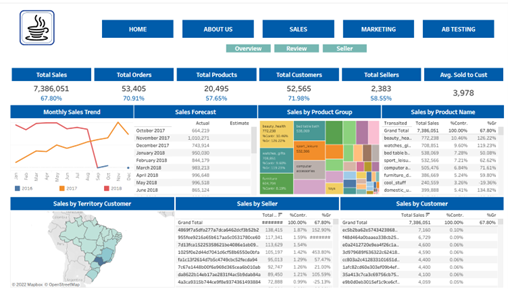

What the dashboard file says about the page in this screenshot:
{"tool":"tableau","page":{"name":"SALES overview","canvas":[1366,768],"ordinal":6},"visuals":[{"type":"image","param":"C:/Users/artanggoro/Downloads/PACMANN PLBI 2 - JAVA TEAM ECOMMERCE.twb Files/Ima","box":[0,0,1366,768]},{"type":"dashboard-object","box":[250,33,216,72]},{"type":"dashboard-object","box":[466,33,216,72]},{"type":"dashboard-object","box":[682,33,216,72]},{"type":"dashboard-object","box":[898,33,215,72]},{"type":"dashboard-object","box":[1113,33,215,72]},{"type":"dashboard-object","box":[590,105,130,32]},{"type":"dashboard-object","box":[720,105,130,32]},{"type":"dashboard-object","box":[850,105,129,32]},{"type":"worksheet","title":"S0 - M1 Sales","mark":"Automatic","box":[15,170,222,104]},{"type":"worksheet","title":"SO - M2 Total Orders","mark":"Automatic","box":[237,170,222,104]},{"type":"worksheet","title":"SO - M3 Total Prod","mark":"Automatic","box":[459,170,222,104]},{"type":"worksheet","title":"SO - M4 #Customers","mark":"Automatic","box":[681,170,222,104]},{"type":"worksheet","title":"SO - M5 #Seller","mark":"Automatic","box":[903,170,221,104]},{"type":"worksheet","title":"SO - M6 Avg, MAU","mark":"Automatic","box":[1124,170,221,104]},{"type":"worksheet","title":"Monthly Sales Trend","mark":"Automatic","rows":["price"],"cols":["Calculation_1715871484989136914"],"box":[15,274,333,244]},{"type":"worksheet","title":"Sales Forecast","mark":"Automatic","rows":["Calculation_1715871484989136914"],"cols":["Forecast Indicator"],"box":[348,274,333,244]},{"type":"worksheet","title":"Sales by Product Group","mark":"Automatic","box":[681,274,332,244]},{"type":"worksheet","title":"Sales by Product Name","mark":"Automatic","rows":["transalted"],"box":[1013,274,332,244]},{"type":"legend","title":"Monthly Sales Trend","param":"[federated.1hsu72a1y49pcw1gvpcny0cice9h].[yr:Month (copy)_182395837838626822:ok]","box":[24,488,386,25]},{"type":"worksheet","title":"Sales by Territory Customer","mark":"Automatic","box":[15,521,444,244]},{"type":"worksheet","title":"Sales by Seller","mark":"Automatic","rows":["seller_id (olist!sellers!dataset)"],"box":[459,521,443,244]},{"type":"worksheet","title":"Sales by Cust","mark":"Automatic","rows":["customer_id (olist!customers!dataset)"],"box":[902,521,443,244]}]}

Visuals, with their boxes in screenshot pixels (x1, y1, x2, y2), scaled from the page's 1366x768 canvas onto the 508x289 screenshot:
image: [0, 0, 507, 288]
dashboard-object: [93, 12, 173, 40]
dashboard-object: [173, 12, 254, 40]
dashboard-object: [254, 12, 334, 40]
dashboard-object: [334, 12, 414, 40]
dashboard-object: [414, 12, 494, 40]
dashboard-object: [219, 40, 268, 52]
dashboard-object: [268, 40, 316, 52]
dashboard-object: [316, 40, 364, 52]
"S0 - M1 Sales" worksheet: [6, 64, 88, 103]
"SO - M2 Total Orders" worksheet: [88, 64, 171, 103]
"SO - M3 Total Prod" worksheet: [171, 64, 253, 103]
"SO - M4 #Customers" worksheet: [253, 64, 336, 103]
"SO - M5 #Seller" worksheet: [336, 64, 418, 103]
"SO - M6 Avg, MAU" worksheet: [418, 64, 500, 103]
"Monthly Sales Trend" worksheet: [6, 103, 129, 195]
"Sales Forecast" worksheet: [129, 103, 253, 195]
"Sales by Product Group" worksheet: [253, 103, 377, 195]
"Sales by Product Name" worksheet: [377, 103, 500, 195]
"Monthly Sales Trend" legend: [9, 184, 152, 193]
"Sales by Territory Customer" worksheet: [6, 196, 171, 288]
"Sales by Seller" worksheet: [171, 196, 335, 288]
"Sales by Cust" worksheet: [335, 196, 500, 288]
